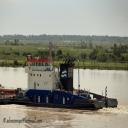tugboat: (1, 41, 120, 113)
